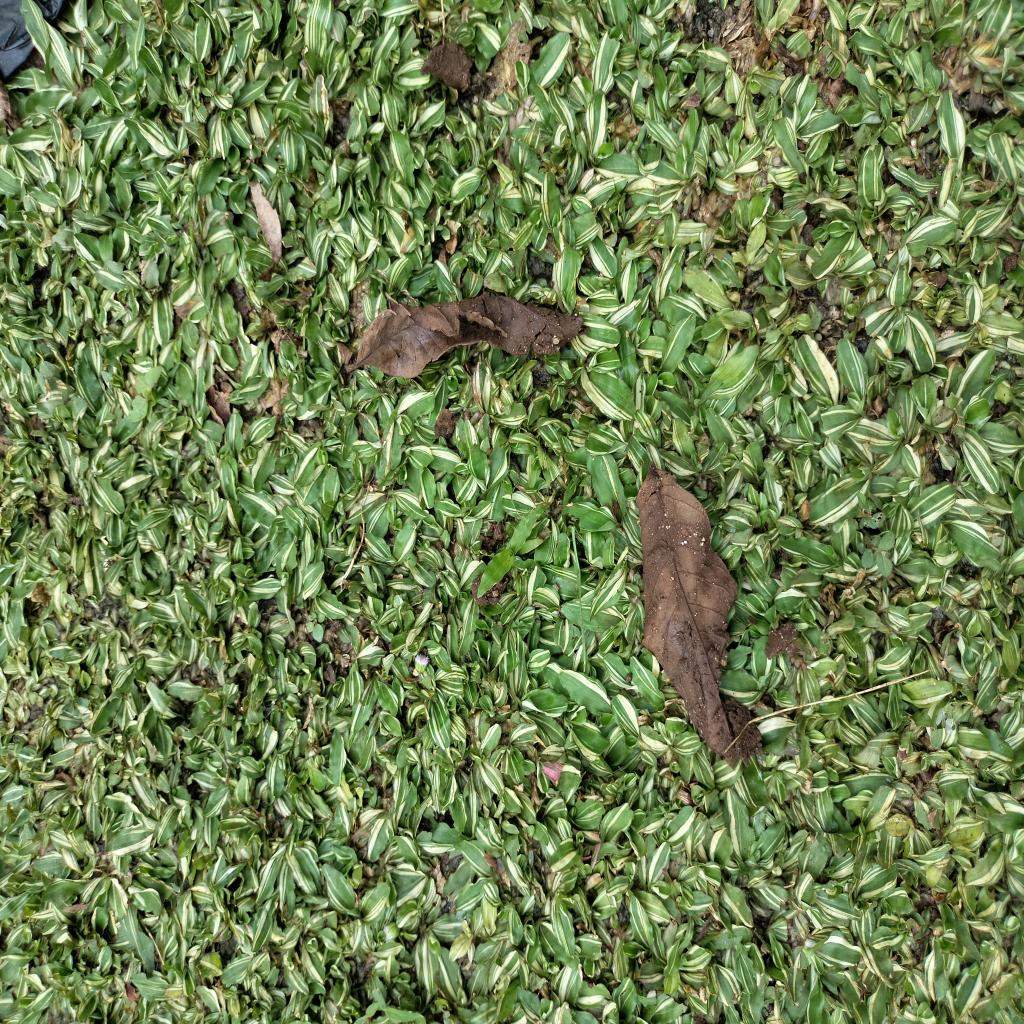rambat bawah: (476, 499, 556, 600)
tunggang tengah: (859, 529, 897, 580), (856, 489, 888, 531)
